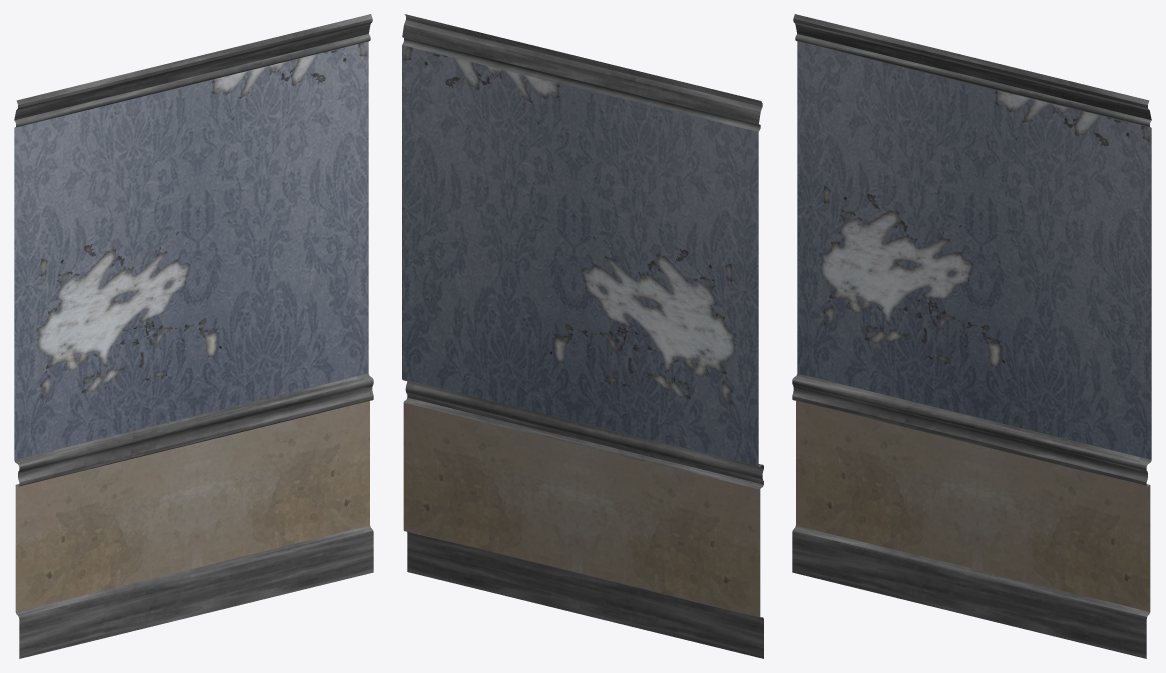
File: Mod_Wall_2x3.fbx
3 renders of one model, left to right at view 1: azimuth 30°, elevation 25°; view 2: azimuth 150°, elevation 25°; view 3: azimuth 330°, elevation 25°, orthographic.
Parts seen in each view (by area): view 1: Mod_Wall_2x3; view 2: Mod_Wall_2x3; view 3: Mod_Wall_2x3.
Part boxes in pixels (<box>): Mod_Wall_2x3: <box>14,14,373,658</box>; Mod_Wall_2x3: <box>402,14,763,658</box>; Mod_Wall_2x3: <box>792,14,1151,658</box>.
Bounding box in the file's own units: 200 × 300 × 5.
Materials: 1 (1 with a texture image).
